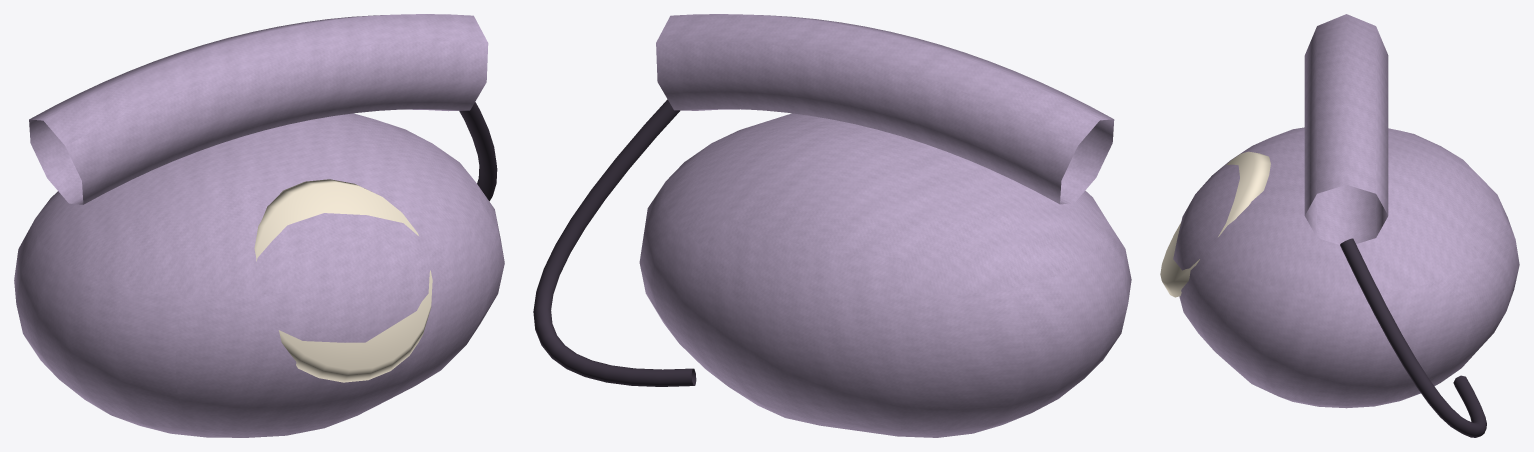
File: Telephone.glb
3 views of the same model, side by side, from view 1: azimuth 30°, elevation 25°; view 2: azimuth 150°, elevation 25°; view 3: azimuth 270°, elevation 25° (orthographic). The views are drawn at different scales.
Visible parts, largest first — view 1: Socle, Combine, Cadran, Cordon; view 2: Socle, Combine, Cordon; view 3: Socle, Combine, Cordon, Cadran.
Part boxes in pixels (bbox=[...]): Socle: bbox=[14, 113, 504, 437]; Combine: bbox=[29, 14, 488, 204]; Cadran: bbox=[254, 179, 432, 382]; Cordon: bbox=[459, 102, 497, 201]; Socle: bbox=[639, 113, 1131, 437]; Combine: bbox=[656, 14, 1114, 204]; Cordon: bbox=[533, 99, 696, 386]; Socle: bbox=[1173, 127, 1519, 408]; Combine: bbox=[1304, 14, 1388, 244]; Cordon: bbox=[1340, 238, 1486, 437]; Cadran: bbox=[1160, 151, 1270, 297].
Bounding box in the file's own units: 0.252 × 0.1719 × 0.1892.
Materials: 3 (1 with a texture image).
